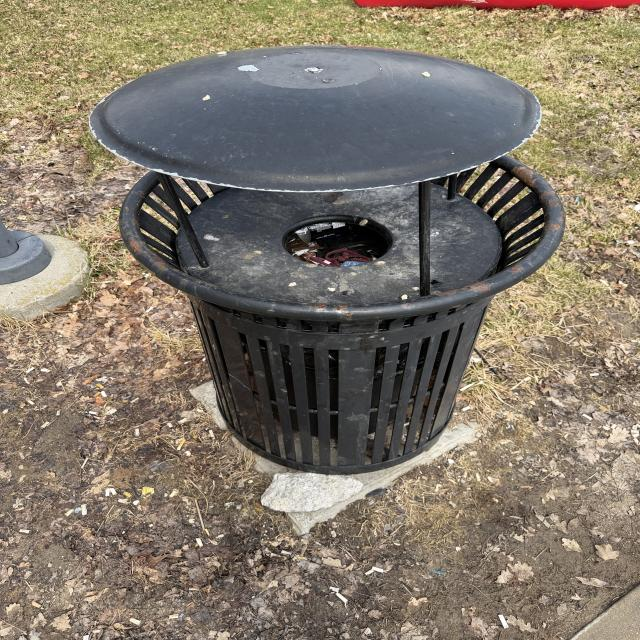Dustbin: (90, 49, 569, 477)
